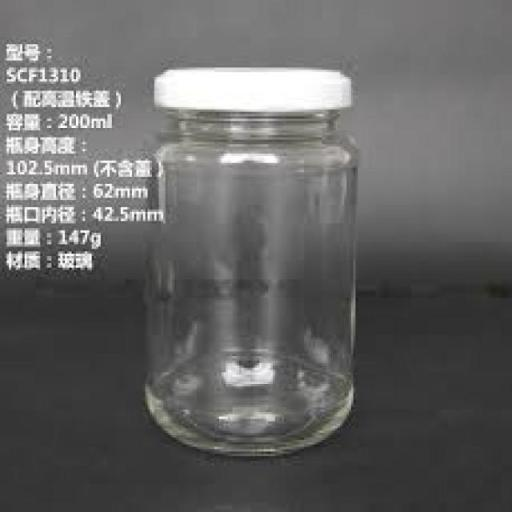glass: (142, 73, 359, 457)
